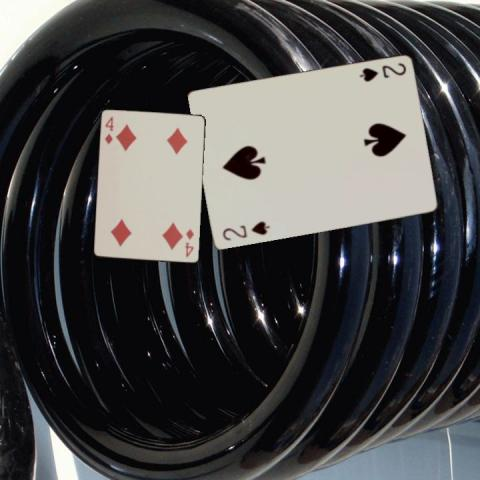2s: (219, 217, 271, 242), (356, 60, 408, 84)
4d: (182, 226, 195, 259), (102, 113, 115, 146)
